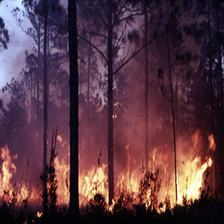fire: (79, 144, 217, 210), (2, 140, 71, 208)
